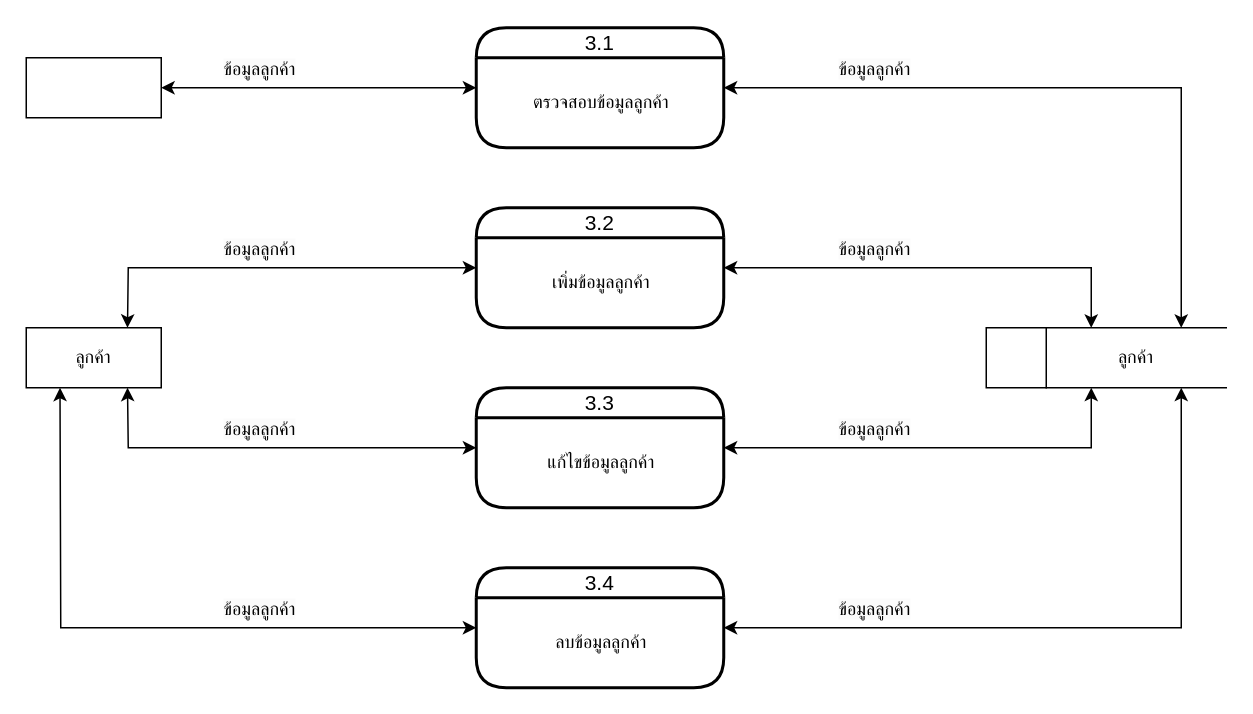
This 1253x714 diagram has some shape labels left out. Each missing label, with the box of its shape:
D5: (985, 326, 1046, 388)
ผู้ดูแลระบบ: (25, 56, 161, 118)
